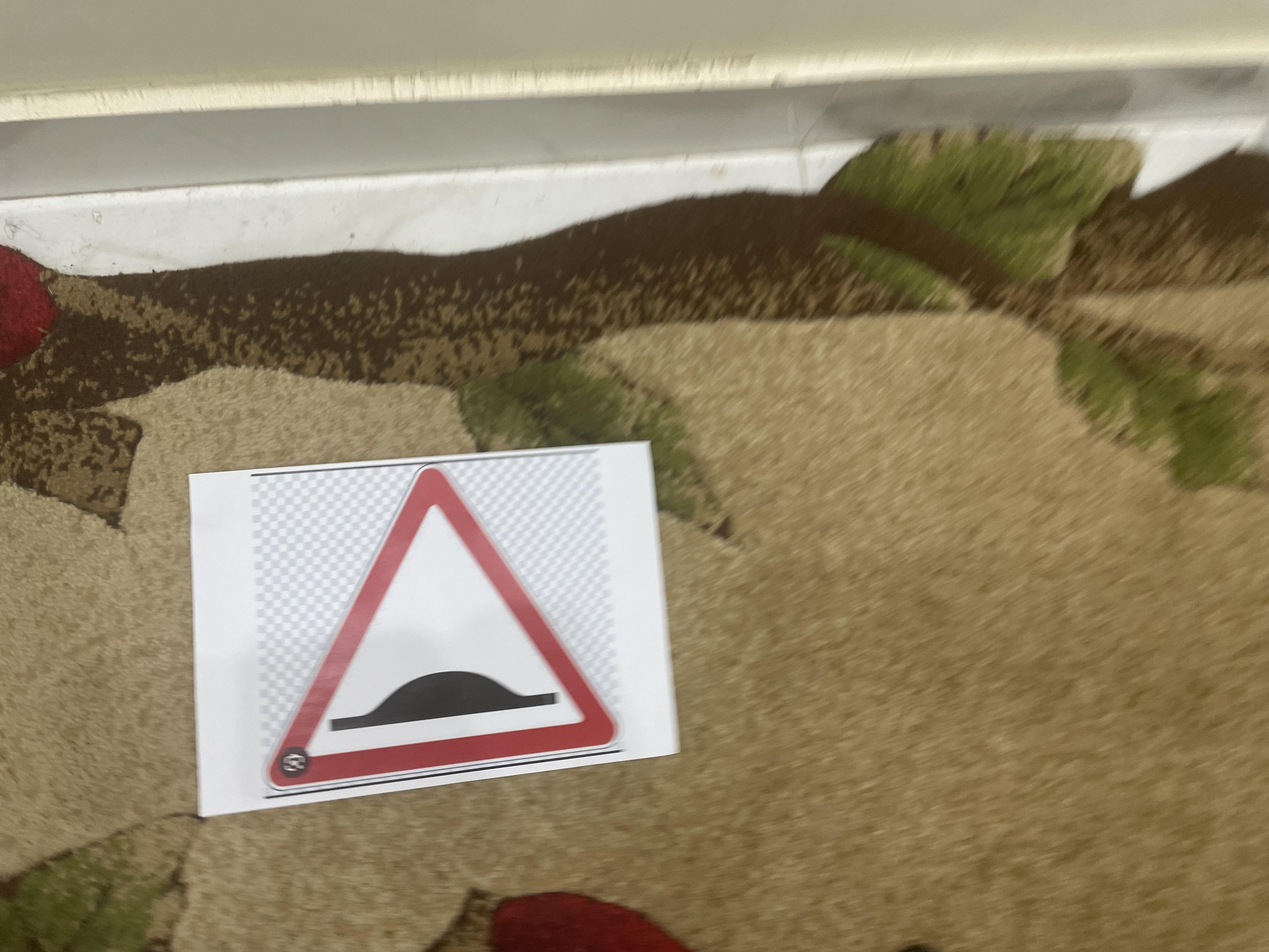Hump: (224, 199, 664, 470)
